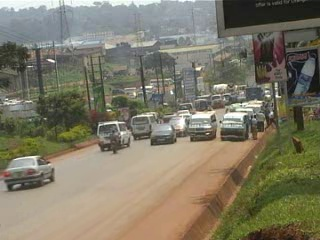Car: (2, 155, 57, 193), (148, 120, 178, 145), (165, 115, 189, 137), (160, 112, 180, 126), (173, 108, 193, 121)
Motorcycle: (108, 129, 123, 155)
